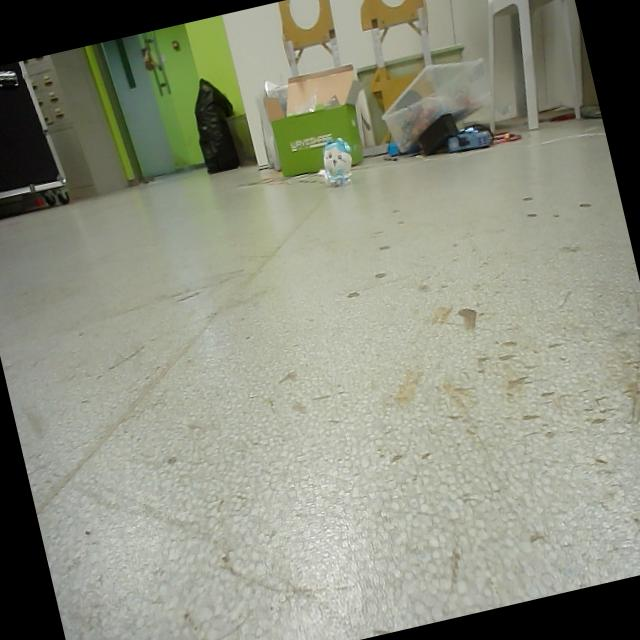xiaoba: (307, 132, 360, 192)
